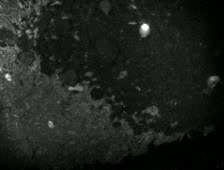corn: (138, 22, 153, 39), (206, 75, 221, 90), (45, 119, 57, 130), (3, 72, 14, 83)
